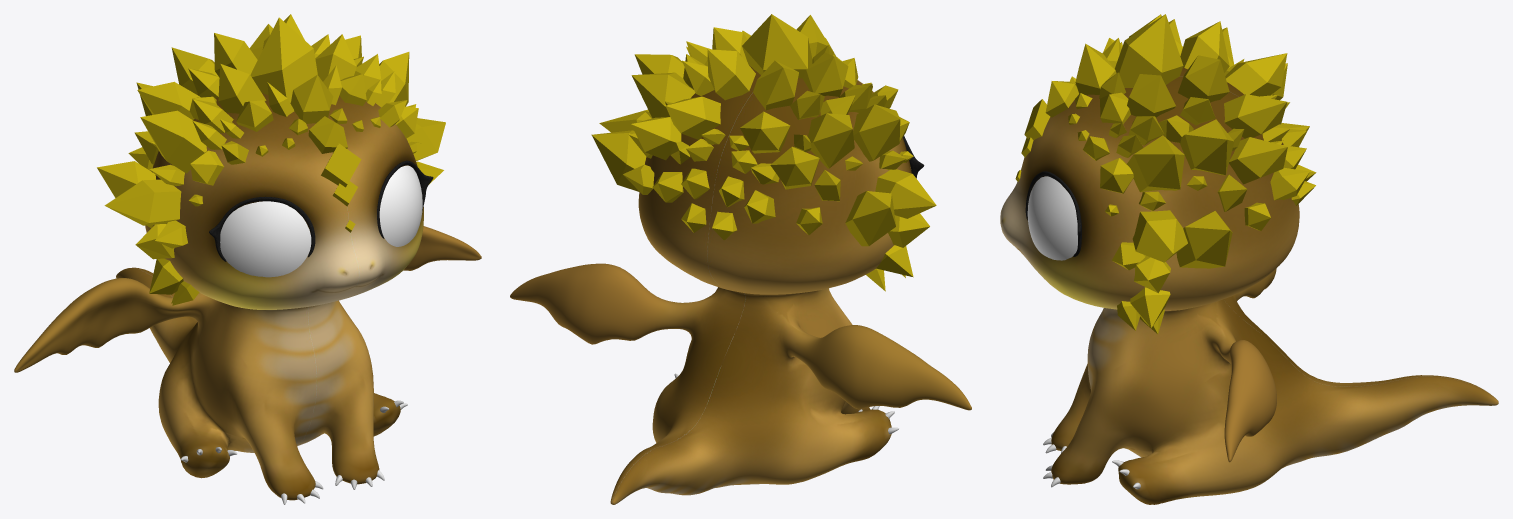
The model's file is proj2_dino.glb.
The picture shows the model from 3 angles, left to right: view 1: azimuth 30°, elevation 25°; view 2: azimuth 150°, elevation 25°; view 3: azimuth 270°, elevation 25°; orthographic projection. The views are drawn at different scales.
Visible parts, largest first — view 1: Body, Gem crown, Right eye, Left eye, Lashes; view 2: Body, Gem crown; view 3: Body, Gem crown, Left eye, Lashes.
Part boxes in pixels (<box>): Body: <box>14,93,481,504</box>; Gem crown: <box>97,14,445,305</box>; Right eye: <box>220,201,311,277</box>; Left eye: <box>379,165,422,246</box>; Lashes: <box>209,160,433,261</box>; Body: <box>510,65,971,504</box>; Gem crown: <box>591,14,936,291</box>; Body: <box>1000,67,1498,504</box>; Gem crown: <box>1015,14,1316,334</box>; Left eye: <box>1027,176,1077,260</box>; Lashes: <box>1025,171,1081,256</box>.
Size of the model in its own units: 1.69 by 1.52 by 1.52.
Materials: 5 (3 with a texture image).
